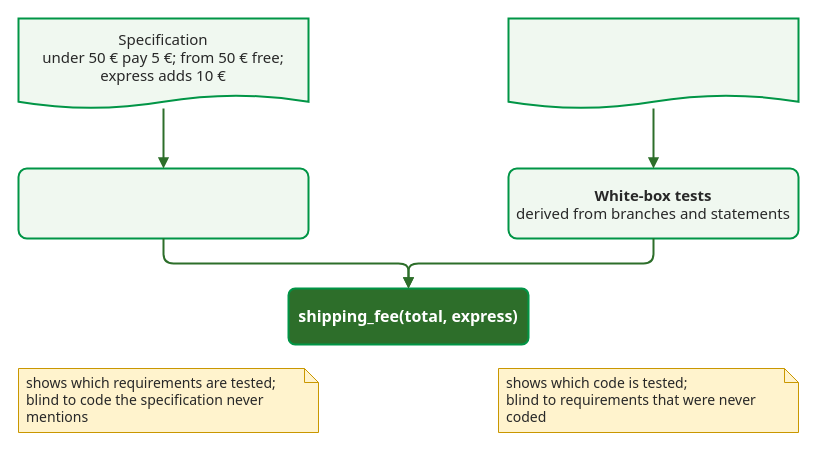
Image size: 816x450. Some labels were removed from this diagram. The centre of each missing label's shape, as x and y in pixels:
"Black-box tests derived from the specification" goes at (163,203).
"Source code if total >= 50 ... if total > 1000 ... if express ..." goes at (653,63).
